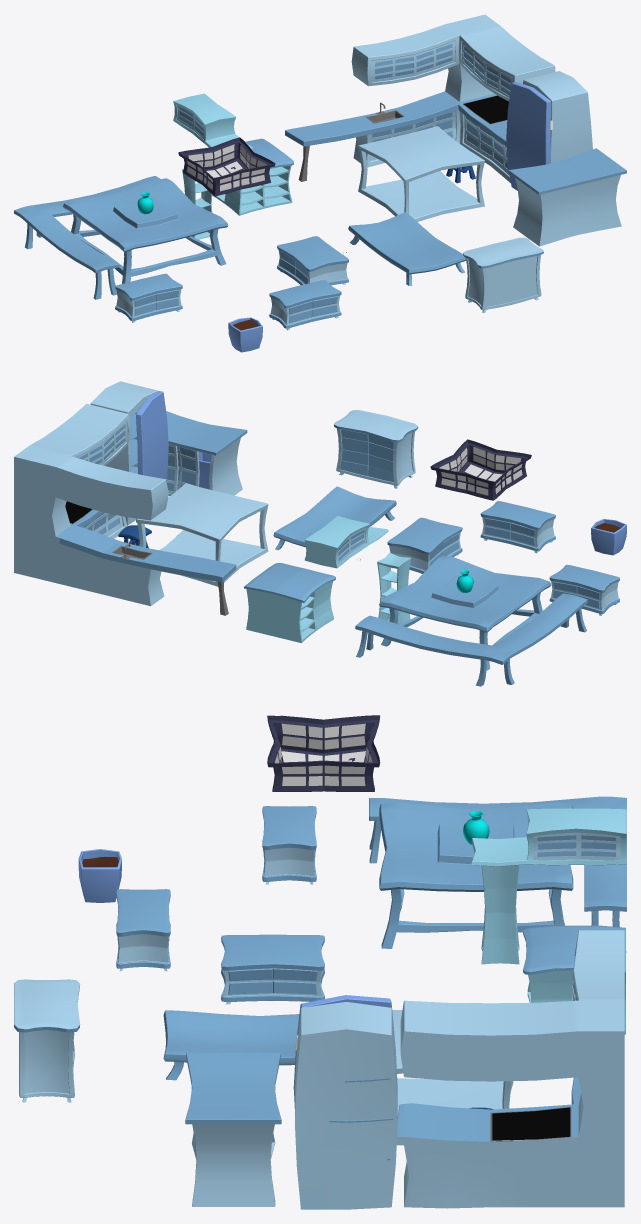
File: Kitchen_whole.fbx
3 renders of one model, top to bottom at view 1: azimuth 30°, elevation 25°; view 2: azimuth 150°, elevation 25°; view 3: azimuth 270°, elevation 25°, orthographic. The views are drawn at different scales.
Parts seen in each view (by area): view 1: Kuechenzeile, Tisch, Cover_Kredenz, Kucheninsel_Basic, Objekt3, Tisch1, Sitzpolster, Kuehlschrank_Korus, Deckenlampe1, Kuehlschrank_Tuere, Kasten.002, Gewuerzeregal (+9 smaller); view 2: Kuechenzeile, Tisch, Kucheninsel_Basic, Gewuerzeregal, Sitzpolster, Objekt3, Deckenlampe1, Cover_Kredenz, Tisch1, Kasten.001, Kasten.002, Kuehlschrank_Tuere (+10 smaller); view 3: Kuechenzeile, Kuehlschrank_Korus, Tisch, Cover_Kredenz, Deckenlampe1, Objekt3, Kasten.002, Tisch1, Schweberegal, Sitzpolster, Kasten.001, Gewuerzeregal (+6 smaller).
Part boxes in pixels (x1,y1,x2,y2): Kuechenzeile: (285, 14, 555, 182); Tisch: (63, 178, 228, 283); Cover_Kredenz: (508, 148, 626, 246); Kucheninsel_Basic: (358, 126, 484, 221); Objekt3: (463, 237, 543, 313); Tisch1: (348, 212, 465, 285); Sitzpolster: (14, 176, 160, 299); Kuehlschrank_Korus: (523, 71, 592, 163); Deckenlampe1: (178, 137, 275, 196); Kuehlschrank_Tuere: (506, 82, 551, 190); Kasten.002: (277, 236, 348, 285); Gewuerzeregal: (212, 138, 293, 215); Kuechenzeile: (14, 403, 236, 606); Tisch: (379, 555, 551, 670); Kucheninsel_Basic: (136, 483, 268, 586); Gewuerzeregal: (244, 563, 335, 642); Sitzpolster: (355, 593, 587, 686); Objekt3: (334, 410, 418, 488); Deckenlampe1: (430, 439, 531, 500); Cover_Kredenz: (166, 411, 247, 495); Tisch1: (273, 486, 396, 550); Kasten.001: (480, 501, 555, 553); Kasten.002: (387, 517, 462, 573); Kuehlschrank_Tuere: (136, 391, 168, 522); Kuechenzeile: (396, 930, 624, 1208); Kuehlschrank_Korus: (295, 1002, 397, 1209); Tisch: (379, 802, 573, 948); Cover_Kredenz: (185, 1052, 281, 1206); Deckenlampe1: (267, 715, 380, 791); Objekt3: (14, 979, 80, 1102); Kasten.002: (221, 934, 324, 1004); Tisch1: (163, 1010, 299, 1080); Schweberegal: (471, 808, 626, 866); Sitzpolster: (369, 796, 626, 953); Kasten.001: (116, 889, 170, 971); Gewuerzeregal: (523, 925, 625, 1034).
Bounding box in the file's own units: 9.5 × 2.41 × 6.75.
